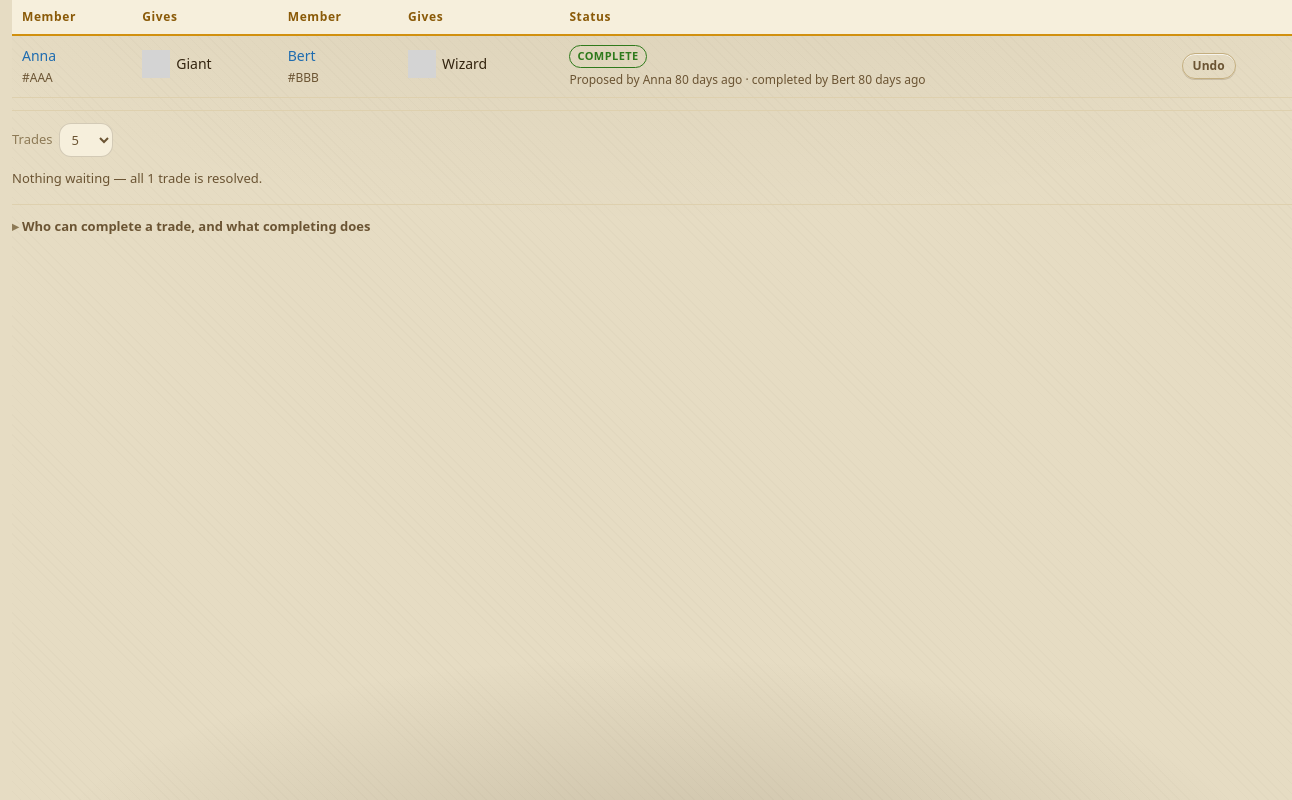
Test: UndoAction.act — undoing a completed trade › shows the server refusal verbatim
This screenshot has width=1292, height=800.
Expected: the table named "Trade tracker" is shown, x1=12 y1=0 x2=1291 y2=98
Click the button "Undo": (1209, 66) x1=1182 y1=53 x2=1236 y2=79
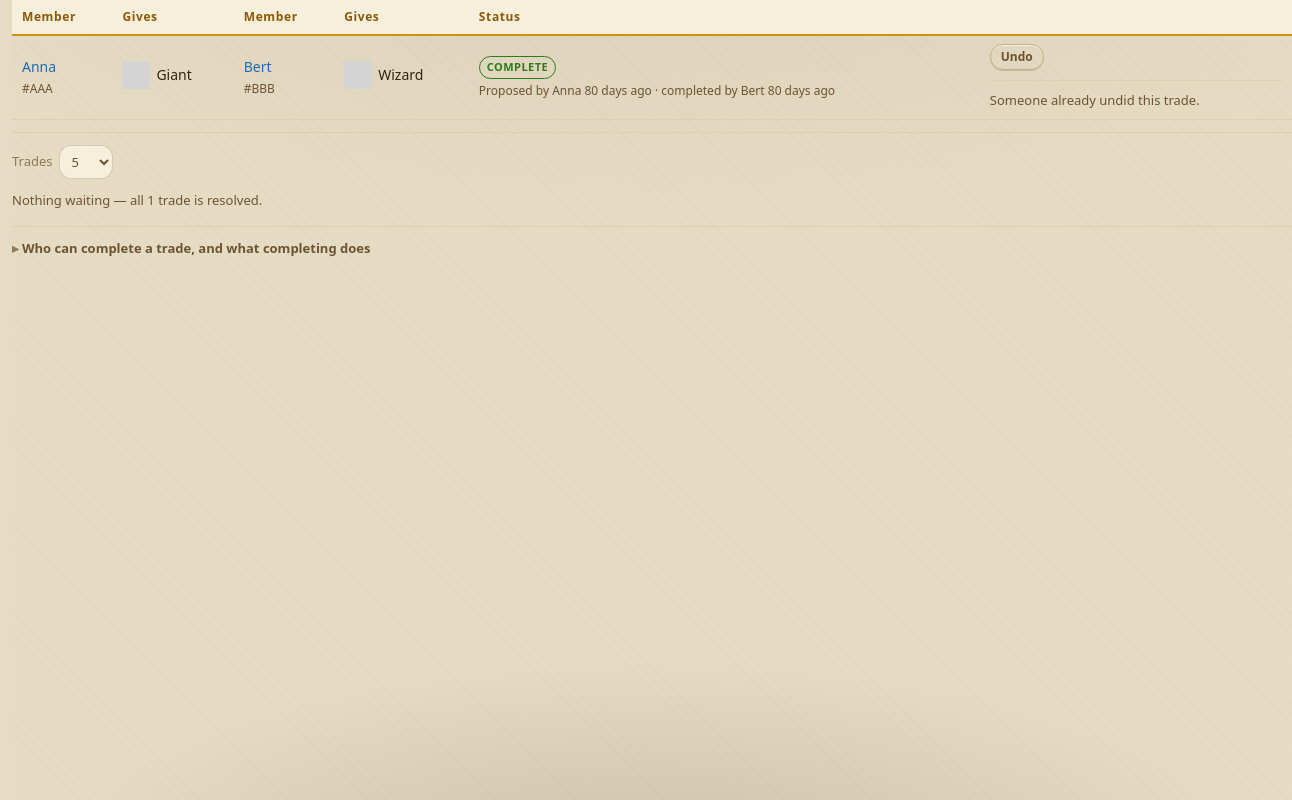
Expected: the text "Someone already undid this trade." is shown, x1=990 y1=80 x2=1282 y2=110
